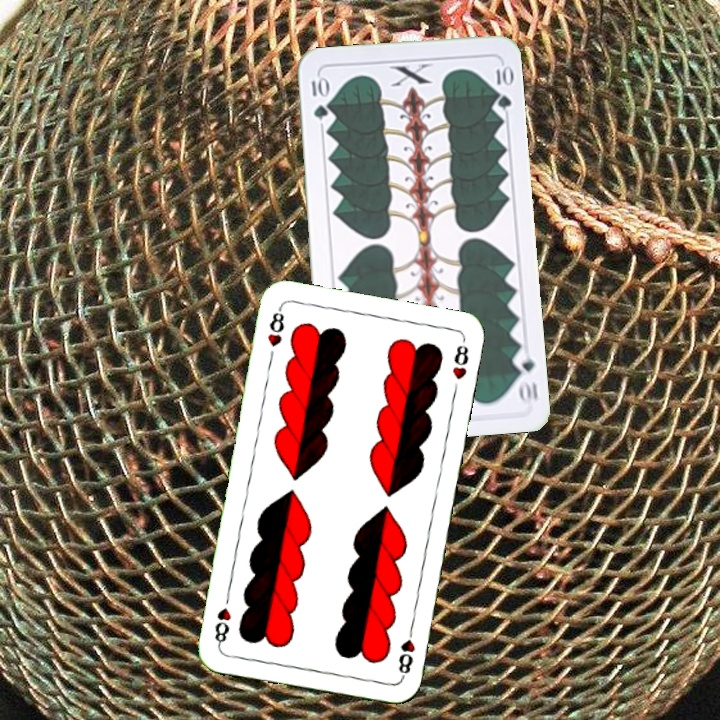G10: (510, 346, 541, 405), (307, 72, 331, 122)
H8: (394, 622, 418, 681), (263, 303, 287, 350)
